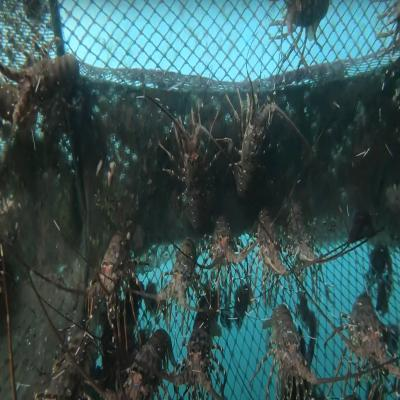lobster: (16, 48, 73, 115), (266, 303, 304, 392), (350, 294, 388, 382), (237, 108, 270, 198), (184, 111, 208, 231), (96, 236, 130, 316), (166, 238, 199, 312), (186, 310, 217, 385), (128, 336, 163, 399), (209, 215, 235, 290), (259, 209, 284, 280), (288, 199, 312, 271)
